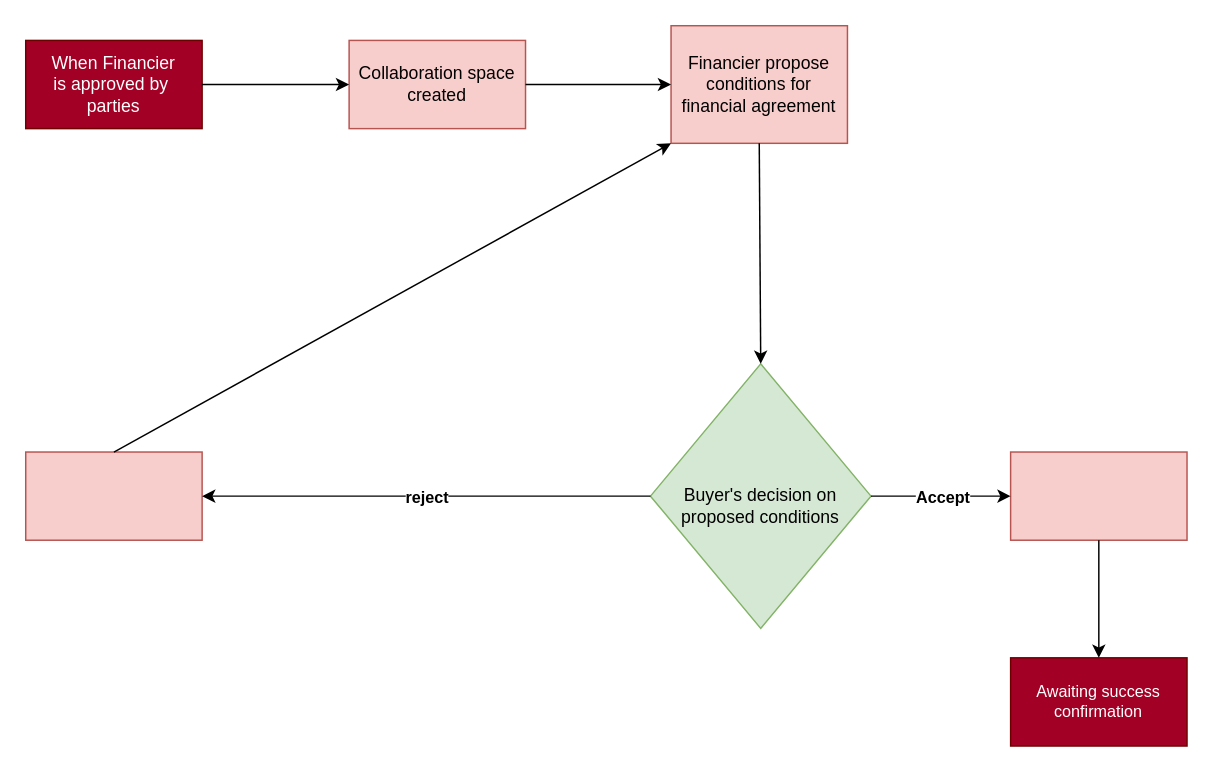
This 1213x772 diagram has some shape labels left out. Here are the shapes that lost their labels. From the top down, the centre of each, then its label:
the point at 113,495: Buyer commits another counter proposal
the point at 1098,495: Accepted proposaal locked
